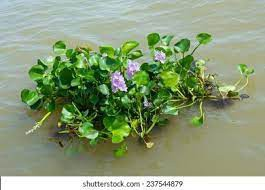water_hyacinth: (21, 30, 253, 141)
